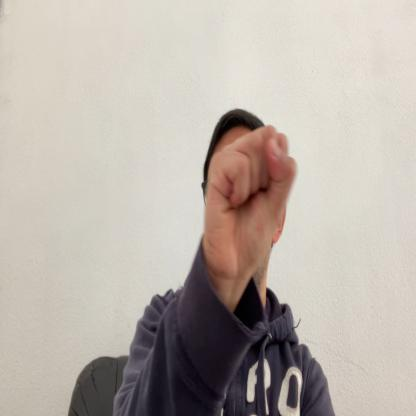S: (205, 126, 297, 292)
